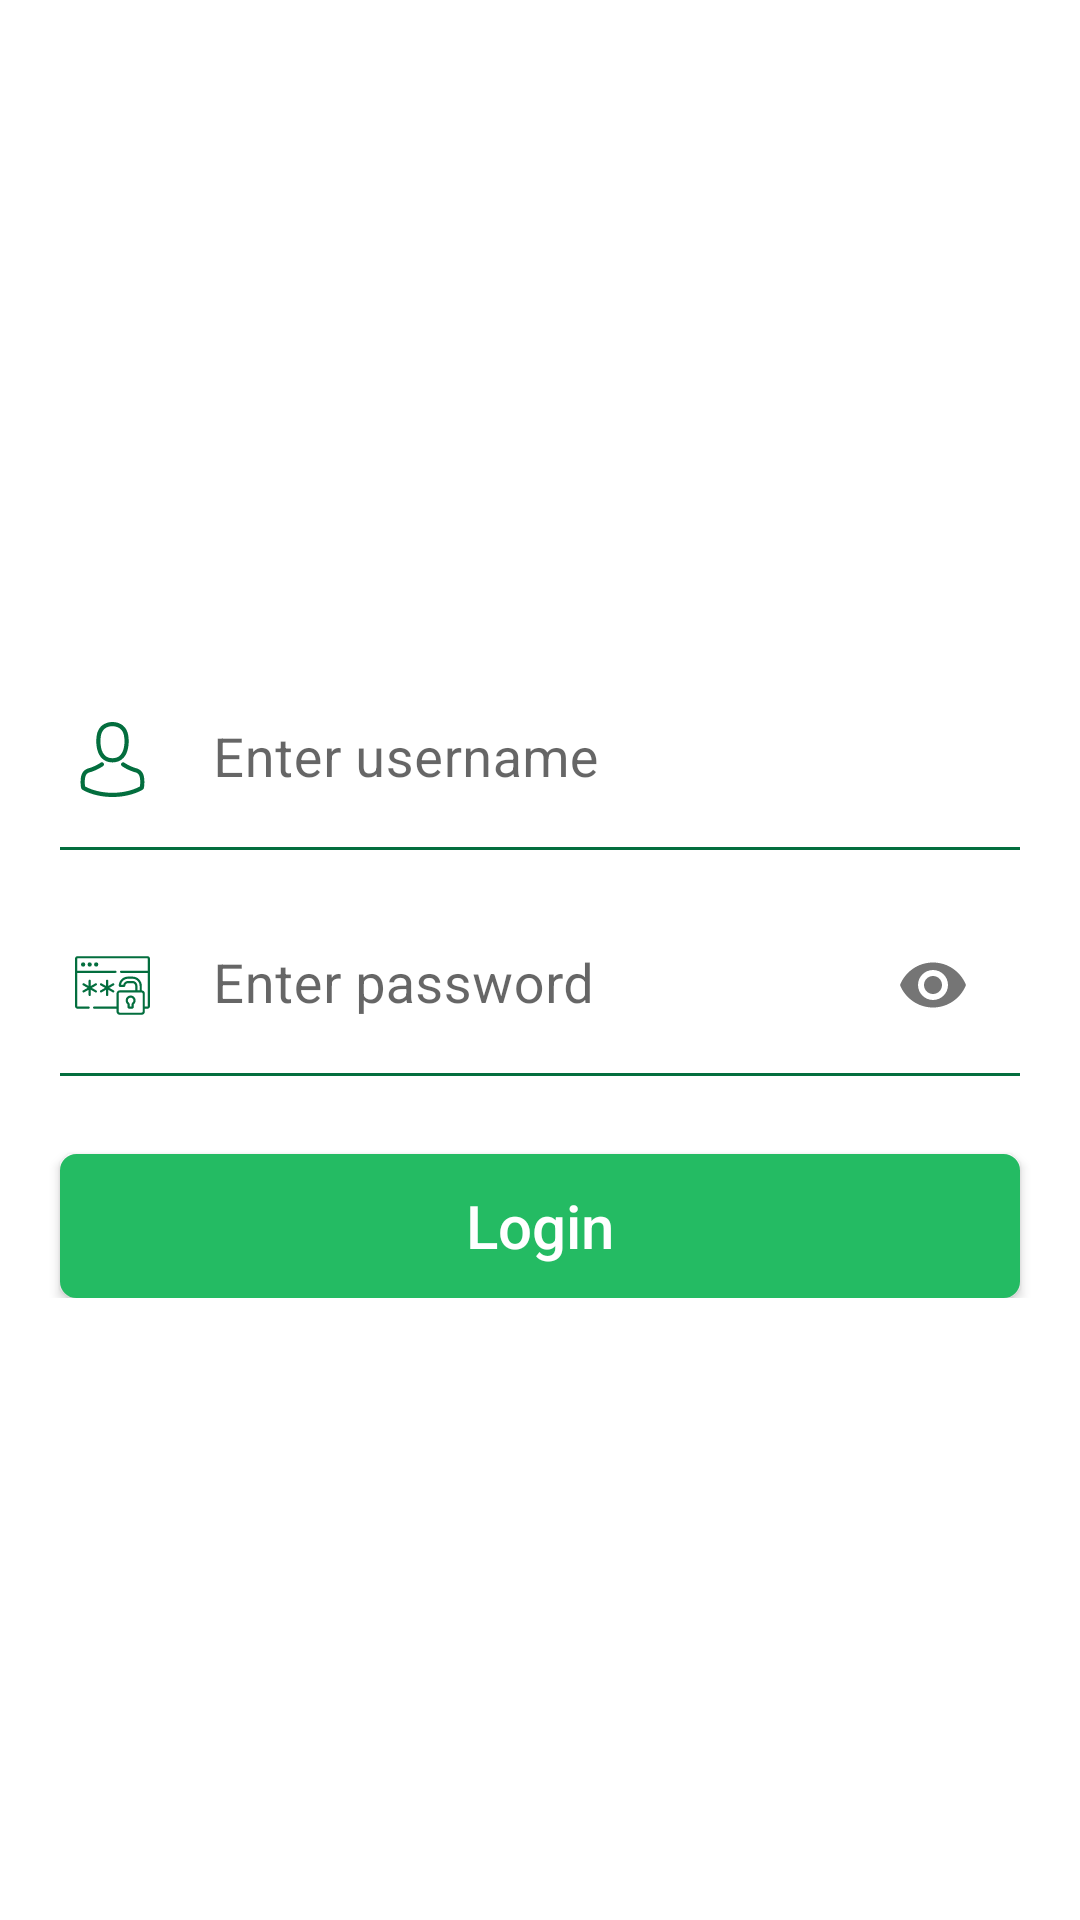

Icons on this 1080*1920 Android screen, each with its box as (x1, y1, x2, y2):
user login: (80, 722, 145, 797)
user password: (75, 956, 150, 1015)
